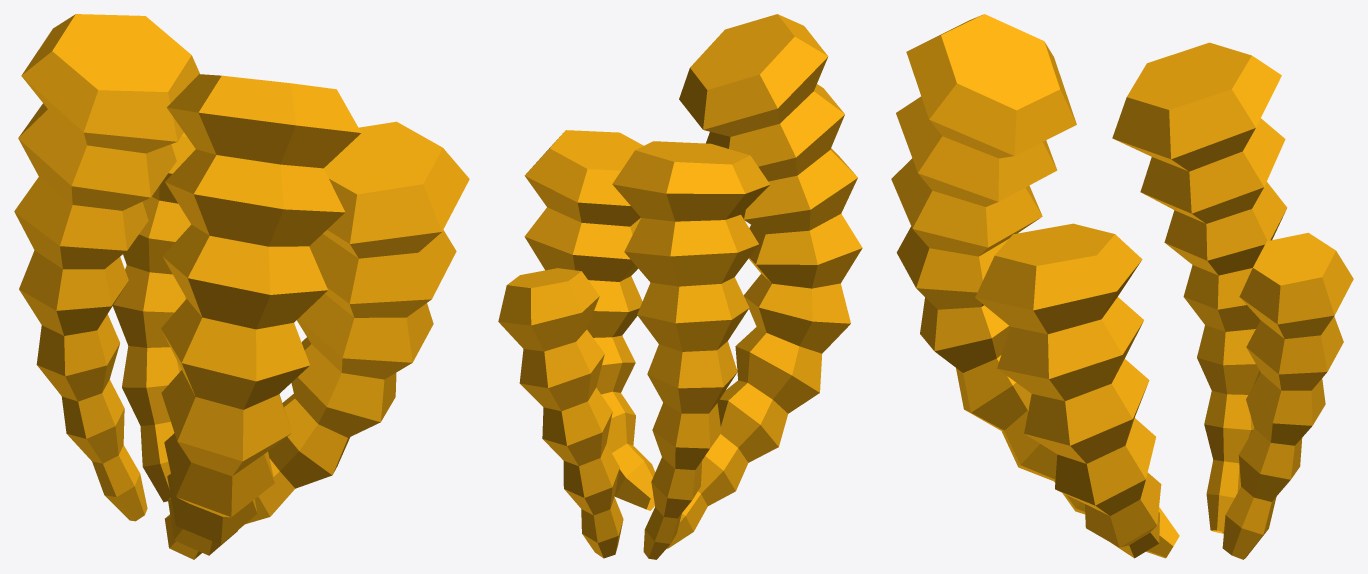
File: Coral_21.fbx
3 renders of one model, left to right at view 1: azimuth 30°, elevation 25°; view 2: azimuth 150°, elevation 25°; view 3: azimuth 270°, elevation 25°, orthographic. The views are drawn at different scales.
Visible parts, largest first — view 1: Coral_21; view 2: Coral_21; view 3: Coral_21.
Boxes of the visible parts, <box> form: Coral_21: <box>14,14,469,559</box>; Coral_21: <box>498,14,862,559</box>; Coral_21: <box>891,14,1353,559</box>.
Bounding box in the file's own units: 34.46 × 53.96 × 43.74.
